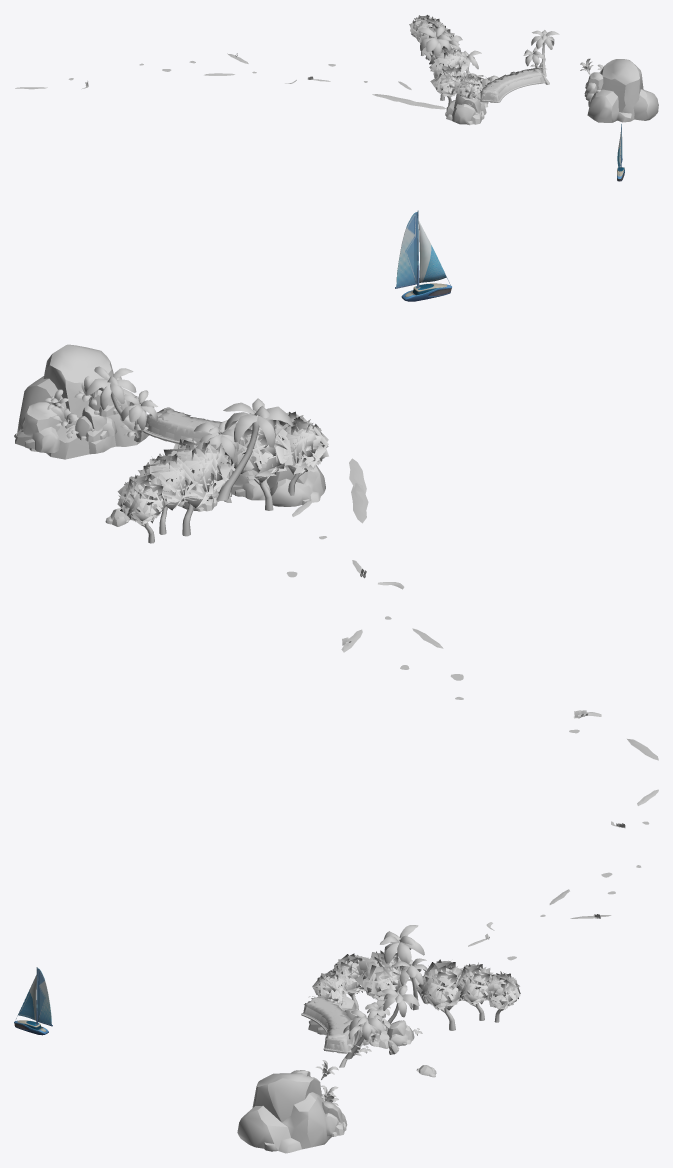
Rendered from pref_Area_Red_Base_Small_beta_01_lv3.fbx.
3 views of the same model, one above another, from view 1: azimuth 30°, elevation 25°; view 2: azimuth 150°, elevation 25°; view 3: azimuth 270°, elevation 25° (orthographic). The views are drawn at different scales.
Visible parts, largest first — view 1: pref_sm_beach_techrock01_lv3 (3), sm_beach_techqiutree02_lv3 (×5), pref_sm_beach_techvegetation04_lv3, pref_sm_beach_techrock01_lv3 (8), pref_sm_beach_techptree02b_lv3, pref_sm_beach_techptree02b_lv3 (3), pref_sm_beach_techrock01_lv3 (1), pref_sm_beach_techptree02b_lv3 (2), pref_sm_beach_sailboat02_lv3; view 2: sm_beach_techqiutree02_lv3 (×5), pref_sm_beach_techrock01_lv3 (3), pref_sm_beach_techptree02b_lv3 (×2), pref_sm_beach_sailboat02_lv3, pref_sm_beach_techrock01_lv3 (10), pref_sm_beach_techrock01_lv3 (8), pref_sm_beach_techvegetation04_lv3, pref_sm_beach_techptree02b_lv3 (3), pref_sm_beach_techrock01_lv3 (5), pref_sm_beach_techptree02b_lv3 (2); view 3: sm_beach_techqiutree02_lv3 (×6), pref_sm_beach_techrock01_lv3 (3), pref_sm_beach_techptree02b_lv3 (×2), pref_sm_beach_techvegetation04_lv3, pref_sm_beach_sailboat02_lv3, pref_sm_beach_techptree02b_lv3 (3), pref_sm_beach_techptree02b_lv3 (1), pref_sm_beach_techrock01_lv3 (10), pref_sm_beach_techrock01_lv3 (2).
Boxes of the visible parts, x1=… form: pref_sm_beach_techrock01_lv3 (3): x1=587, y1=59, x2=658, y2=122; sm_beach_techqiutree02_lv3 (×5): x1=414, y1=16, x2=482, y2=99; pref_sm_beach_techvegetation04_lv3: x1=480, y1=68, x2=544, y2=102; pref_sm_beach_techrock01_lv3 (8): x1=445, y1=93, x2=486, y2=125; pref_sm_beach_techptree02b_lv3: x1=418, y1=26, x2=451, y2=58; pref_sm_beach_techptree02b_lv3 (3): x1=531, y1=30, x2=559, y2=76; pref_sm_beach_techrock01_lv3 (1): x1=585, y1=72, x2=603, y2=93; pref_sm_beach_techptree02b_lv3 (2): x1=523, y1=46, x2=549, y2=84; pref_sm_beach_sailboat02_lv3: x1=617, y1=124, x2=624, y2=181; sm_beach_techqiutree02_lv3 (×5): x1=117, y1=417, x2=328, y2=525; pref_sm_beach_techrock01_lv3 (3): x1=17, y1=344, x2=149, y2=459; pref_sm_beach_techptree02b_lv3 (×2): x1=194, y1=398, x2=293, y2=502; pref_sm_beach_sailboat02_lv3: x1=395, y1=210, x2=451, y2=301; pref_sm_beach_techrock01_lv3 (10): x1=14, y1=402, x2=60, y2=452; pref_sm_beach_techrock01_lv3 (8): x1=267, y1=465, x2=325, y2=506; pref_sm_beach_techvegetation04_lv3: x1=145, y1=407, x2=236, y2=446; pref_sm_beach_techptree02b_lv3 (3): x1=85, y1=366, x2=136, y2=434; pref_sm_beach_techrock01_lv3 (5): x1=75, y1=405, x2=117, y2=441; pref_sm_beach_techptree02b_lv3 (2): x1=121, y1=390, x2=157, y2=441; sm_beach_techqiutree02_lv3 (×6): x1=312, y1=950, x2=520, y2=1010; pref_sm_beach_techrock01_lv3 (3): x1=237, y1=1073, x2=337, y2=1153; pref_sm_beach_techptree02b_lv3 (×2): x1=379, y1=925, x2=429, y2=1010; pref_sm_beach_techvegetation04_lv3: x1=303, y1=996, x2=353, y2=1053; pref_sm_beach_sailboat02_lv3: x1=14, y1=967, x2=52, y2=1035; pref_sm_beach_techptree02b_lv3 (3): x1=345, y1=1010, x2=384, y2=1059; pref_sm_beach_techptree02b_lv3 (1): x1=381, y1=985, x2=419, y2=1027; pref_sm_beach_techrock01_lv3 (10): x1=322, y1=1101, x2=347, y2=1136; pref_sm_beach_techrock01_lv3 (2): x1=385, y1=1020, x2=414, y2=1046.
Bounding box in the file's own units: 75.29 × 12.13 × 63.79.
